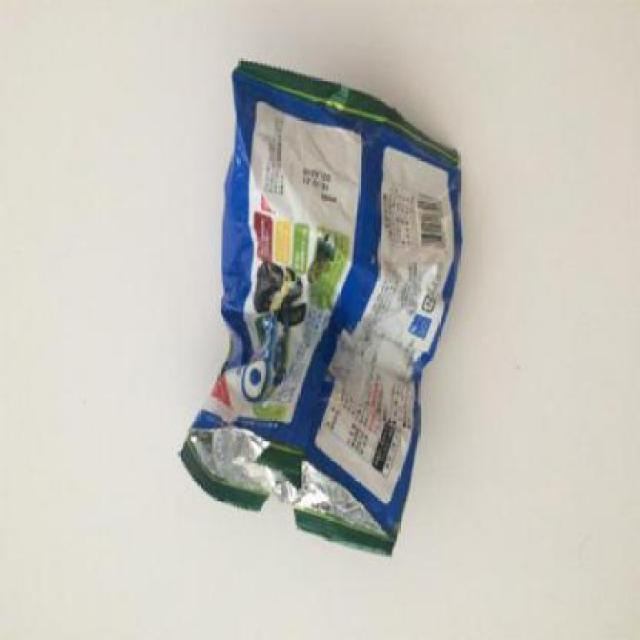Plastic: (178, 54, 462, 556)
